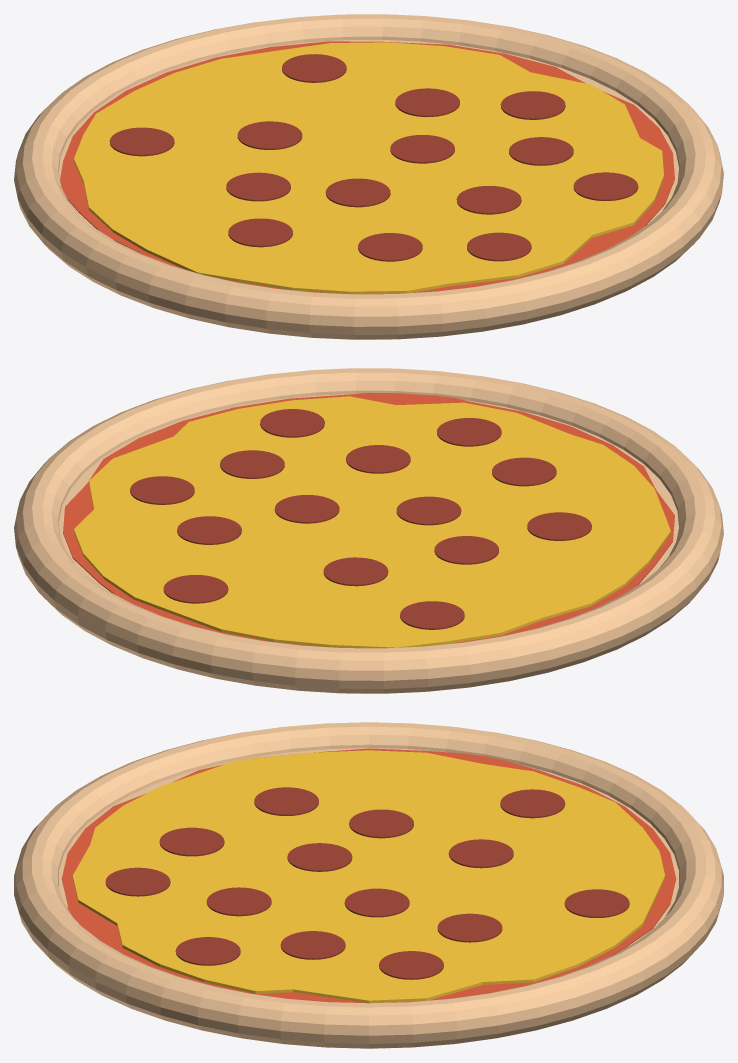
Rendered from pizza2.fbx.
3 renders of one model, top to bottom at view 1: azimuth 30°, elevation 25°; view 2: azimuth 150°, elevation 25°; view 3: azimuth 270°, elevation 25°, orthographic.
Visible parts, largest first — view 1: Pizza2; view 2: Pizza2; view 3: Pizza2.
Boxes of the visible parts, bbox=[...] form: Pizza2: bbox=[14, 14, 723, 339]; Pizza2: bbox=[14, 368, 723, 693]; Pizza2: bbox=[14, 722, 723, 1048].
Bounding box in the file's own units: 214 × 13.65 × 214.
